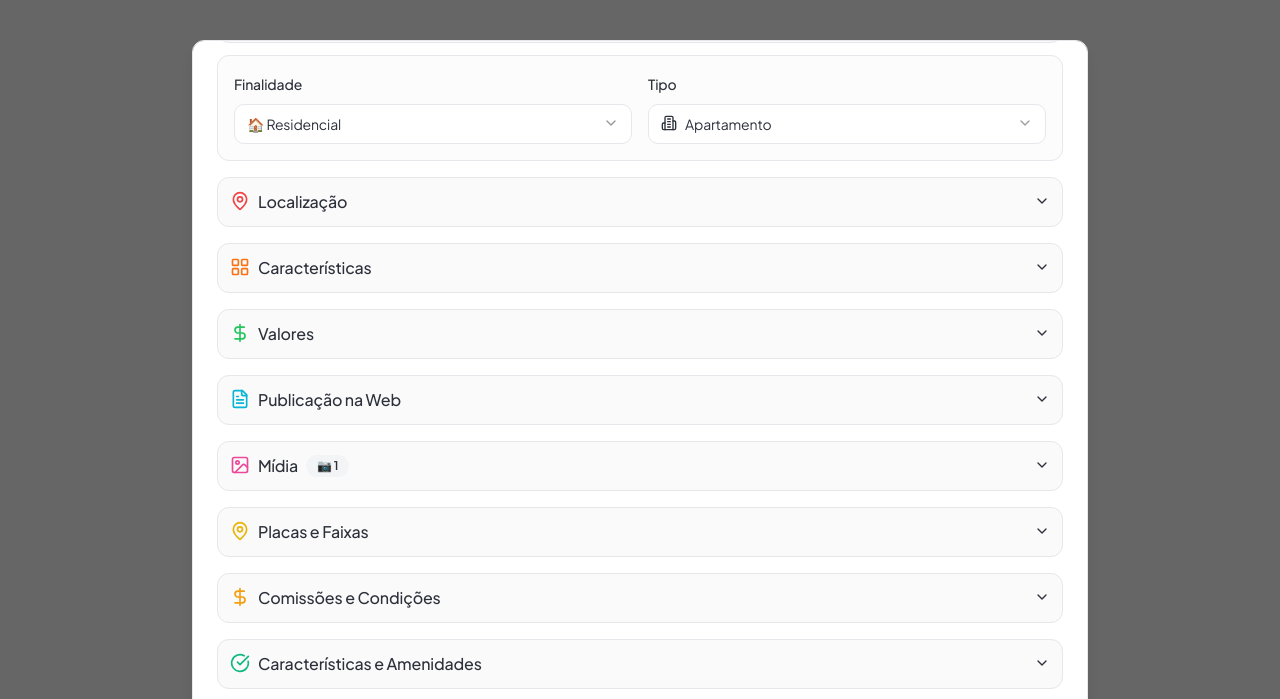
Test: CriarImovelForm — rascunho › um save por vez; o que foi editado durante o save é salvo depois, sem re-subir fotos
This screenshot has width=1280, height=699.
(page scrolled)
Click the button "Publicação na Web".
click(330, 400)  # box [217,375,1063,425]
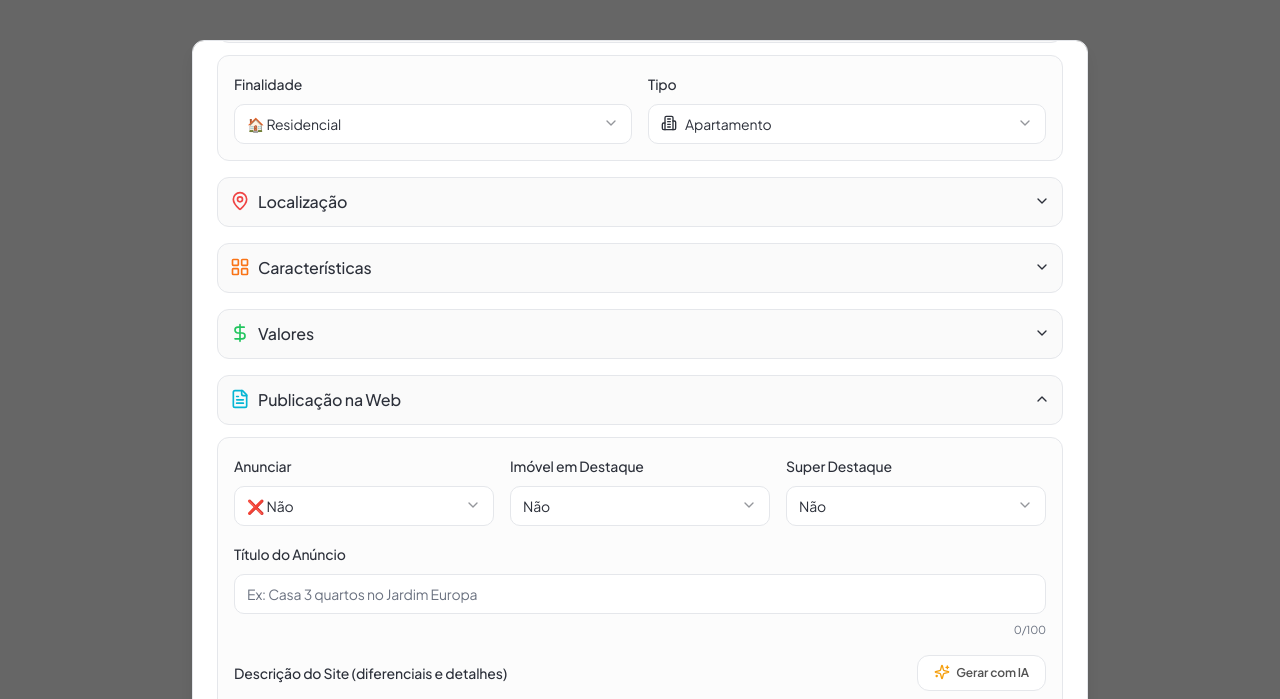
Type "Primeiro" into the field with placeholder "Ex: Casa 3 quartos no Jardim Europa".
click(640, 594); type("Primeiro")  # box [234,574,1046,614]
Wait 5000 ms
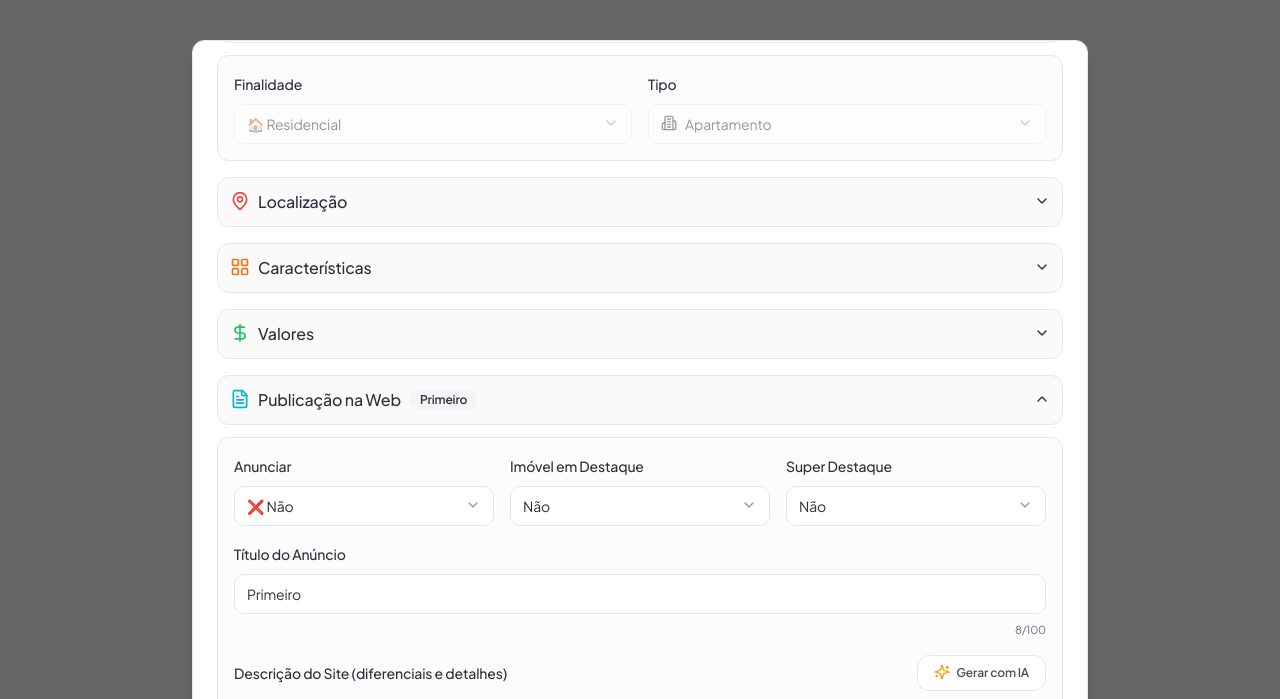
Replace the text in the field with placeholder "Ex: Casa 3 quartos no Jardim Europa" with "Segundo" at (640, 594), box [234,574,1046,614]
Wait 25000 ms
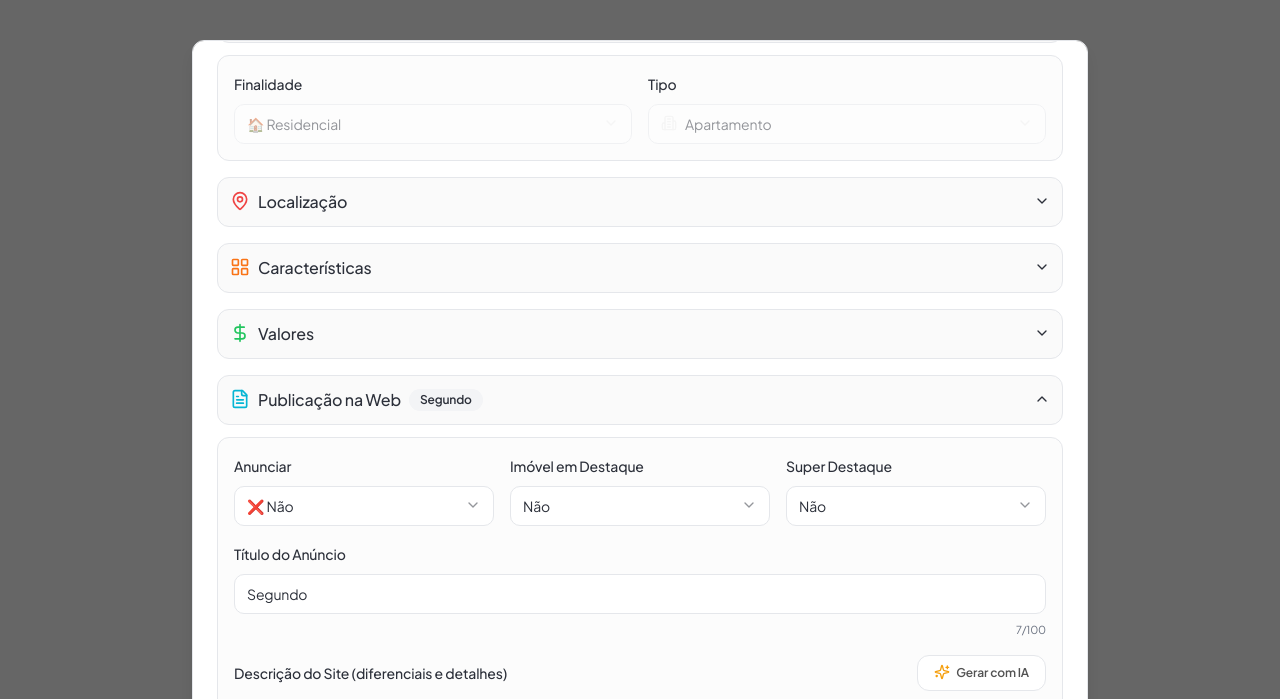
Check: the text "Segundo" is shown, box [409,389,483,411]
